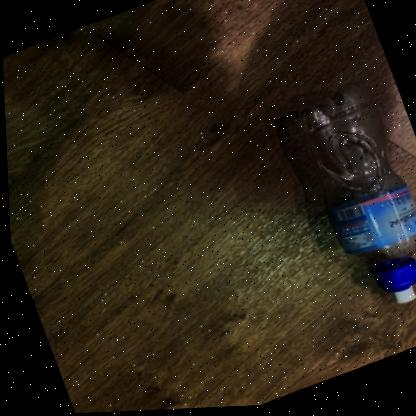Plastic: (299, 87, 416, 307)
